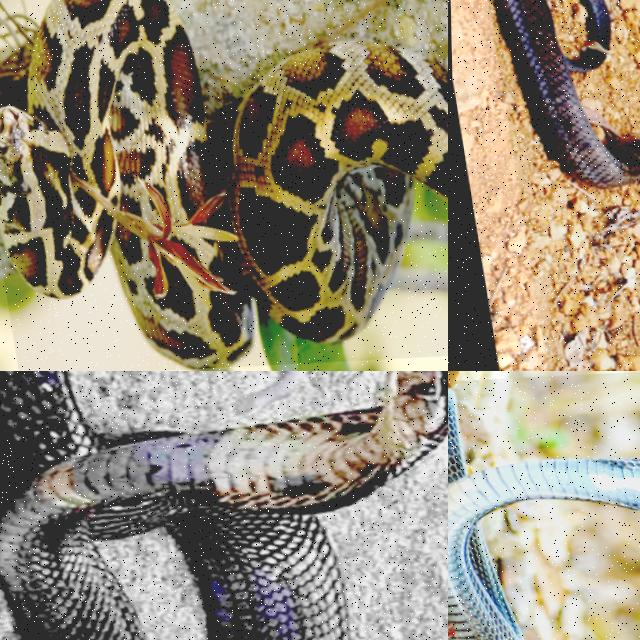Naja siamensis: (0, 371, 447, 639), (448, 392, 639, 639)
Ophiophagus hannah: (495, 0, 639, 187)
Python bivittatus: (0, 0, 447, 368)
